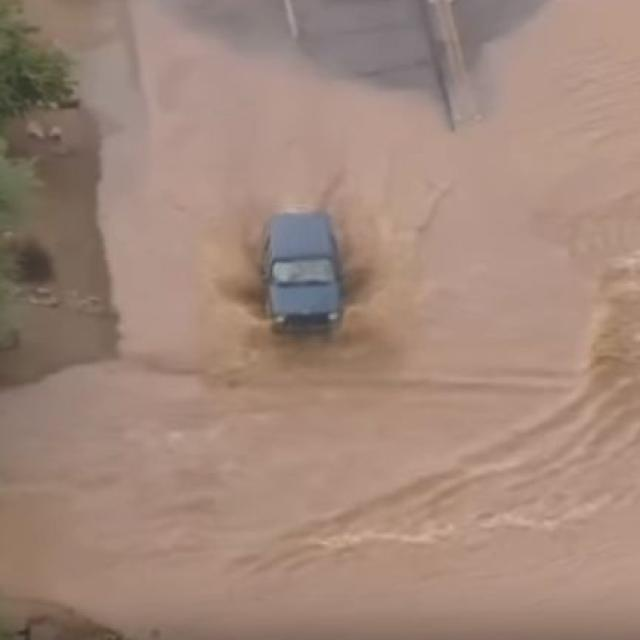flooded_areas: (77, 52, 612, 575)
